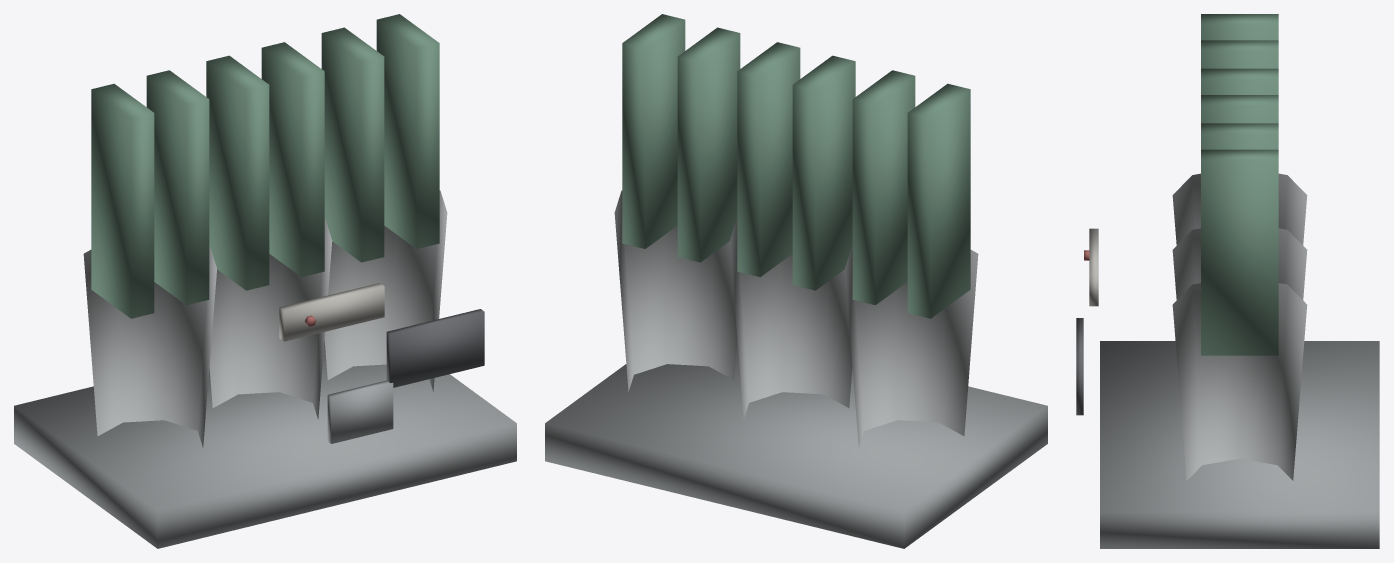
Rendered from flower_bucket_rack__weathered.glb.
3 views of the same model, side by side, from view 1: azimuth 30°, elevation 25°; view 2: azimuth 150°, elevation 25°; view 3: azimuth 270°, elevation 25° (orthographic). The views are drawn at different scales.
Visible parts, largest first — view 1: world; view 2: world; view 3: world.
Boxes of the visible parts, left/top/right/bottom form: world: left=14, top=14, right=516, bottom=548; world: left=545, top=14, right=1047, bottom=548; world: left=1076, top=14, right=1379, bottom=548.
Bounding box in the file's own units: 0.78 × 0.8019 × 0.5861.
